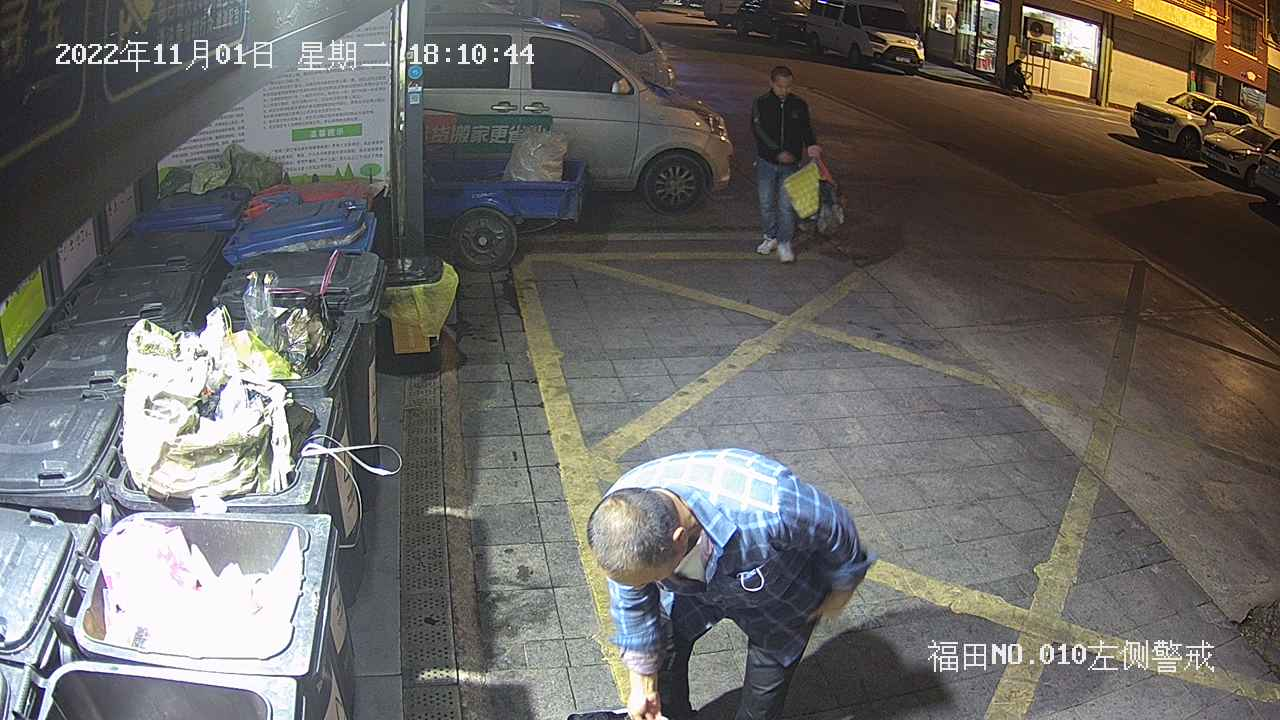garbage-bag: (816, 158, 846, 237)
person: (747, 64, 821, 266)
worker: (586, 445, 882, 720)
zhizhipin: (779, 157, 835, 221)
